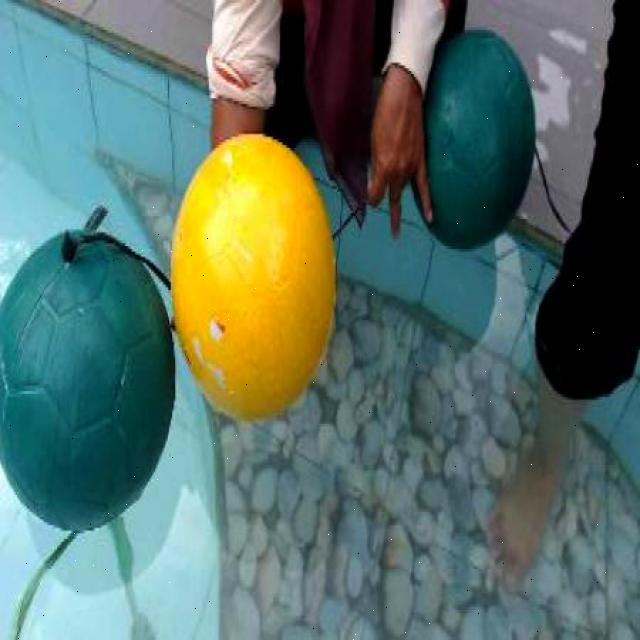buoy: (0, 227, 175, 532), (170, 132, 335, 420), (410, 26, 534, 248)
